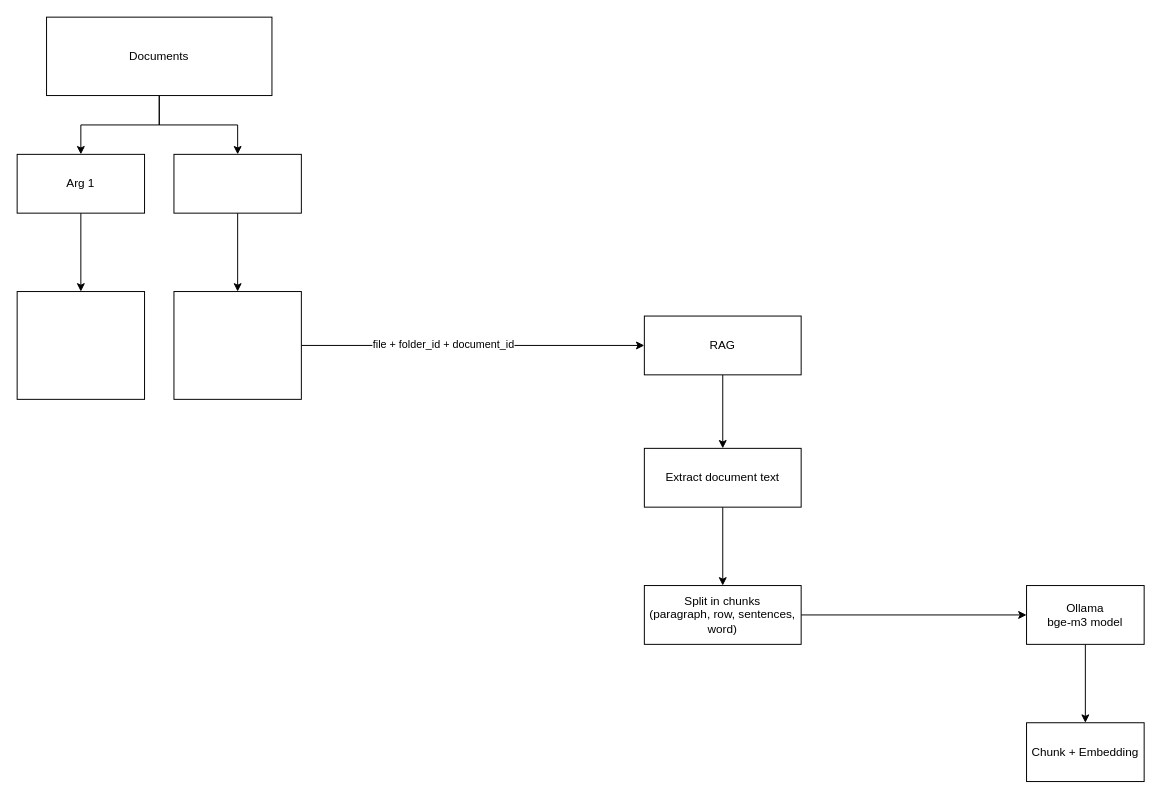
The diagram is 1161 pixels wide and 799 high, and some of its shapes have lost their labels. Here are the shapes that lost their labels. From the top down, the centre of each, then its label:
point 237,183: Arg 2
point 80,345: Documents of arg 1
point 237,345: Documents of arg 2
